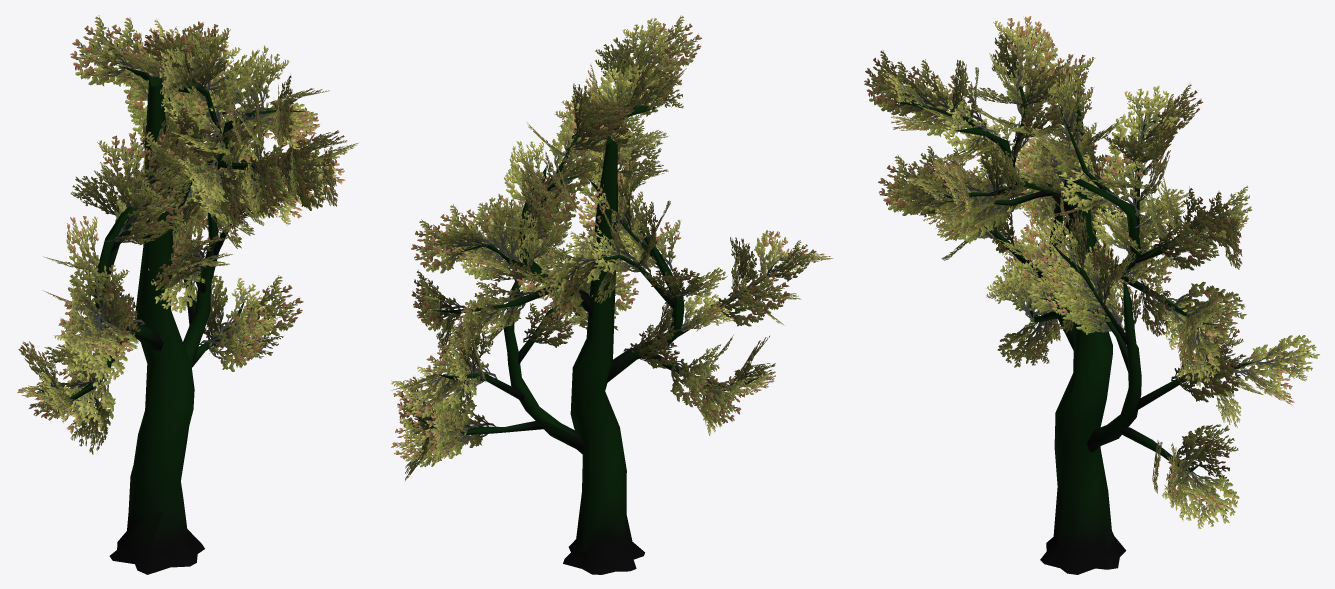
Rendered from tree6_3_afsTREE_xao_xlprl_LOD1.fbx.
The picture shows the model from 3 angles, left to right: view 1: azimuth 30°, elevation 25°; view 2: azimuth 150°, elevation 25°; view 3: azimuth 270°, elevation 25°; orthographic projection. The views are drawn at different scales.
Parts seen in each view (by area): view 1: branch.001_xw19_xt29_xp17, leaf.055_xw29_xt25_xp27, branch.017_xw27_xt17_xp17, leaf.001_xw15_xt25_xp25, leaf.091_xw25_xt15_xp21, leaf1.023_xw25_xt19_xp23, leaf.083_xw19_xt25_xp23, leaf.005_xw25_xt19_xp21, leaf.088_xw19_xt27_xp29, leaf1.059_xw27_xt23_xp17, branch.012_xw21_xt27_xp21, leaf.054_xw25_xt19_xp17 (+58 smaller); view 2: branch.001_xw19_xt29_xp17, branch.017_xw27_xt17_xp17, branch.012_xw21_xt27_xp21, leaf.010_xw29_xt17_xp19, leaf.050_xw23_xt27_xp25, leaf.021_xw15_xt29_xp27, leaf.028_xw27_xt27_xp21, leaf.034_xw29_xt29_xp29, leaf.011_xw23_xt25_xp25, leaf.090_xw17_xt25_xp25, leaf.016_xw23_xt15_xp21, leaf.026_xw25_xt25_xp15 (+47 smaller); view 3: branch.001_xw19_xt29_xp17, branch.017_xw27_xt17_xp17, leaf.065_xw23_xt29_xp29, leaf.084_xw27_xt23_xp21, leaf1.010_xw23_xt27_xp21, leaf1.004_xw15_xt23_xp17, leaf.059_xw15_xt17_xp29, leaf.044_xw15_xt15_xp27, leaf.046_xw15_xt19_xp19, leaf1.055_xw29_xt19_xp21, leaf1.034_xw21_xt27_xp29, leaf.009_xw17_xt23_xp21 (+64 smaller).
Part boxes in pixels (box(x1,y1,x2,y2)): branch.001_xw19_xt29_xp17: box(109, 76, 204, 574); leaf.055_xw29_xt25_xp27: box(70, 15, 134, 86); branch.017_xw27_xt17_xp17: box(183, 212, 218, 367); leaf.001_xw15_xt25_xp25: box(199, 303, 262, 371); leaf.091_xw25_xt15_xp21: box(121, 176, 184, 234); leaf1.023_xw25_xt19_xp23: box(68, 258, 129, 321); leaf.083_xw19_xt25_xp23: box(176, 21, 230, 92); leaf.005_xw25_xt19_xp21: box(237, 275, 303, 336); leaf.088_xw19_xt27_xp29: box(97, 131, 145, 192); leaf1.059_xw27_xt23_xp17: box(240, 45, 288, 113); branch.012_xw21_xt27_xp21: box(94, 198, 163, 350); leaf.054_xw25_xt19_xp17: box(92, 17, 156, 86); branch.001_xw19_xt29_xp17: box(563, 136, 644, 574); branch.017_xw27_xt17_xp17: box(503, 279, 583, 454); branch.012_xw21_xt27_xp21: box(606, 223, 684, 383); leaf.010_xw29_xt17_xp19: box(391, 373, 448, 417); leaf.050_xw23_xt27_xp25: box(411, 219, 472, 273); leaf.021_xw15_xt29_xp27: box(710, 275, 769, 326); leaf.028_xw27_xt27_xp21: box(700, 376, 747, 425); leaf.034_xw29_xt29_xp29: box(413, 278, 467, 332); leaf.011_xw23_xt25_xp25: box(523, 303, 573, 347); leaf.090_xw17_xt25_xp25: box(534, 266, 583, 319); leaf.016_xw23_xt15_xp21: box(623, 324, 679, 368); leaf.026_xw25_xt25_xp15: box(668, 356, 719, 407); branch.001_xw19_xt29_xp17: box(1040, 105, 1126, 574); branch.017_xw27_xt17_xp17: box(1087, 274, 1141, 452); leaf.065_xw23_xt29_xp29: box(878, 154, 944, 215); leaf.084_xw27_xt23_xp21: box(1004, 25, 1057, 91); leaf1.010_xw23_xt27_xp21: box(1255, 335, 1319, 381); leaf1.004_xw15_xt23_xp17: box(1191, 470, 1239, 528); leaf.059_xw15_xt17_xp29: box(873, 61, 936, 116); leaf.044_xw15_xt15_xp27: box(1088, 154, 1143, 218); leaf.046_xw15_xt19_xp19: box(1153, 210, 1206, 270); leaf1.055_xw29_xt19_xp21: box(1124, 85, 1178, 141); leaf1.034_xw21_xt27_xp29: box(1177, 325, 1220, 387); leaf.009_xw17_xt23_xp21: box(1231, 344, 1297, 400).
Size of the model in its own units: 89.01 by 127 by 101.
